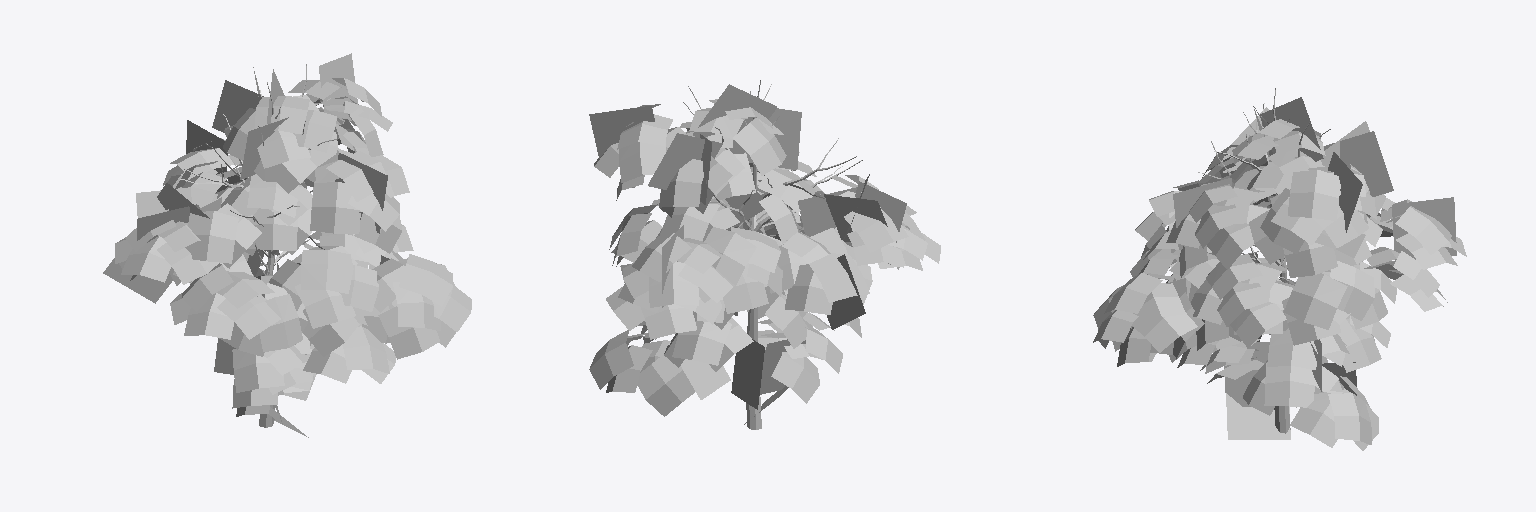
The model's file is tree4b_lod0.obj.
The picture shows the model from 3 angles: view 1: azimuth 30°, elevation 25°; view 2: azimuth 150°, elevation 25°; view 3: azimuth 270°, elevation 25°; orthographic projection.
Visible parts, largest first — view 1: leaves 0.0 0.[number redacted] 0.0 0 0 0 0.[number redacted] 0.[number redacted], bark 0.[number redacted] -0.[number redacted] -0.[number redacted]; view 2: leaves 0.0 0.[number redacted] 0.0 0 0 0 0.[number redacted] 0.[number redacted], bark 0.[number redacted] -0.[number redacted] -0.[number redacted]; view 3: leaves 0.0 0.[number redacted] 0.0 0 0 0 0.[number redacted] 0.[number redacted], bark 0.[number redacted] -0.[number redacted] -0.[number redacted].
Boxes of the visible parts, x1,y1,x2,y2 form: leaves 0.0 0.[number redacted] 0.0 0 0 0 0.[number redacted] 0.[number redacted]: [103, 53, 471, 437]; bark 0.[number redacted] -0.[number redacted] -0.[number redacted]: [180, 64, 360, 427]; leaves 0.0 0.[number redacted] 0.0 0 0 0 0.[number redacted] 0.[number redacted]: [589, 84, 940, 424]; bark 0.[number redacted] -0.[number redacted] -0.[number redacted]: [683, 80, 862, 429]; leaves 0.0 0.[number redacted] 0.0 0 0 0 0.[number redacted] 0.[number redacted]: [1093, 97, 1466, 450]; bark 0.[number redacted] -0.[number redacted] -0.[number redacted]: [1198, 88, 1330, 433].
Size of the model in its own units: 0.878 by 1 by 0.982.